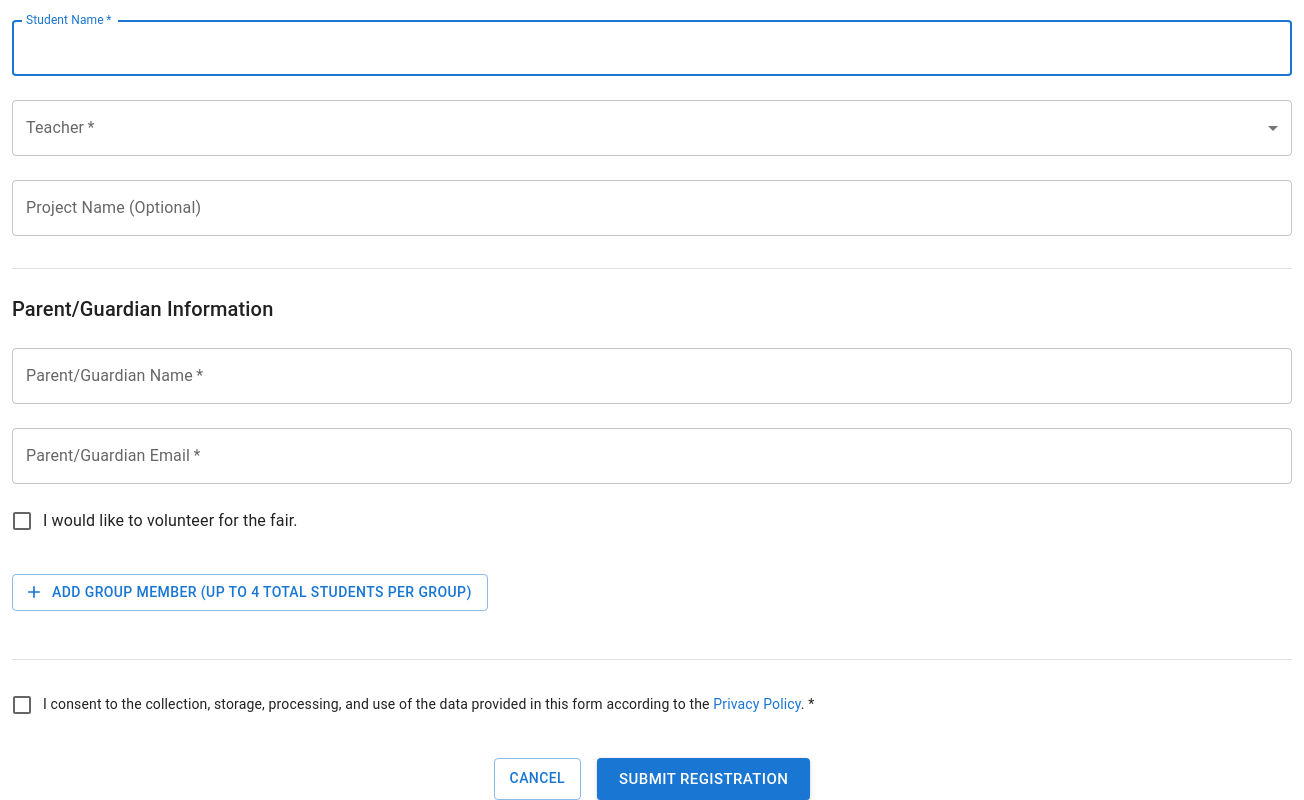
Test: RegistrationForm Component › should show validation errors when submitting empty form
(page scrolled)
Click the button "Submit Registration" at {"x": 704, "y": 779}, box x1=597 y1=758 x2=810 y2=799
(page scrolled)
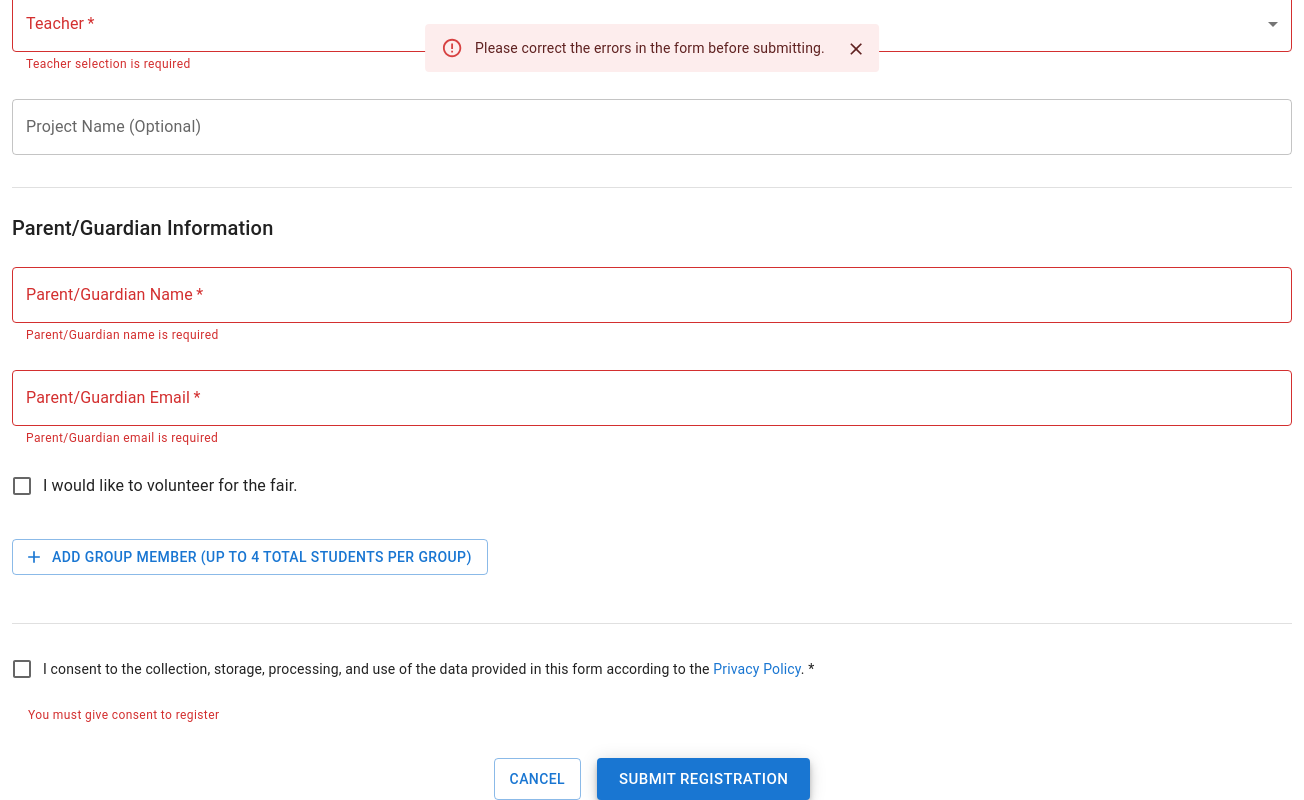
Check: the text "Teacher selection is required" is shown, box x1=26 y1=57 x2=191 y2=71
Check: the text "Parent/Guardian name is required" is shown, box x1=26 y1=328 x2=219 y2=342
Check: the text "Parent/Guardian email is required" is shown, box x1=26 y1=431 x2=218 y2=445
